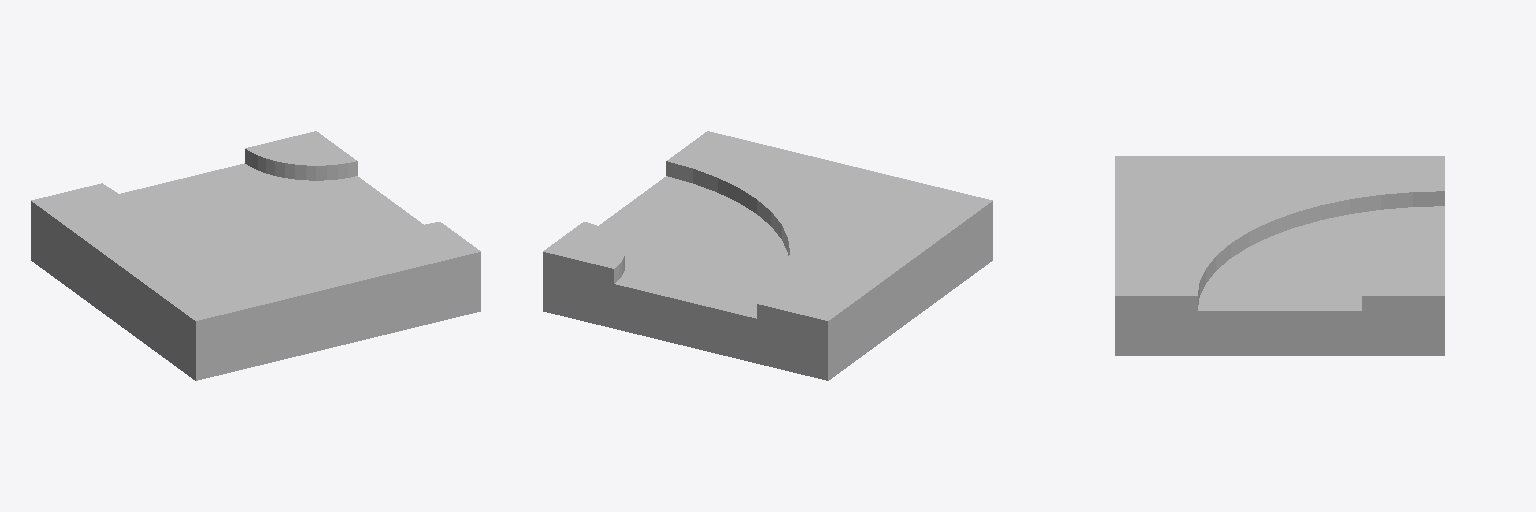
File: RiverCornerRU.obj
The picture shows the model from 3 angles: view 1: azimuth 30°, elevation 25°; view 2: azimuth 150°, elevation 25°; view 3: azimuth 270°, elevation 25°; orthographic projection.
Parts seen in each view (by area): view 1: RiverCornerRU; view 2: RiverCornerRU; view 3: RiverCornerRU.
Boxes of the visible parts, x1=… form: RiverCornerRU: x1=31, y1=131, x2=480, y2=380; RiverCornerRU: x1=543, y1=131, x2=992, y2=380; RiverCornerRU: x1=1115, y1=156, x2=1444, y2=355.
Bounding box in the file's own units: 1 × 0.2 × 1.